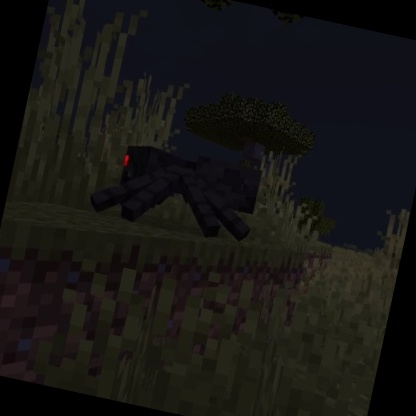spider: (83, 130, 270, 251)
